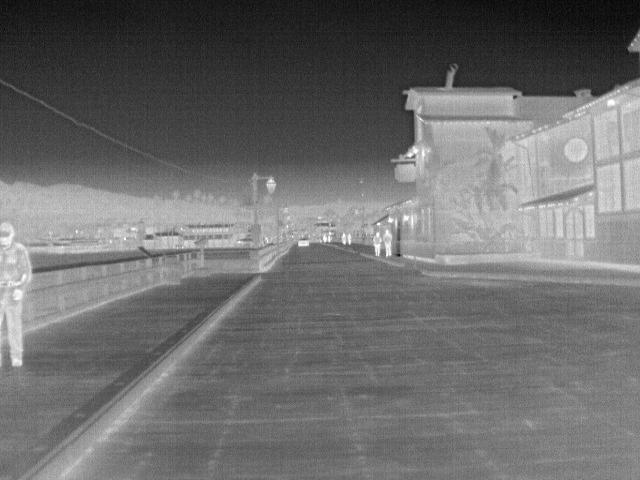car: (295, 236, 310, 250)
person: (1, 222, 33, 370), (378, 225, 396, 260), (372, 229, 384, 258)
